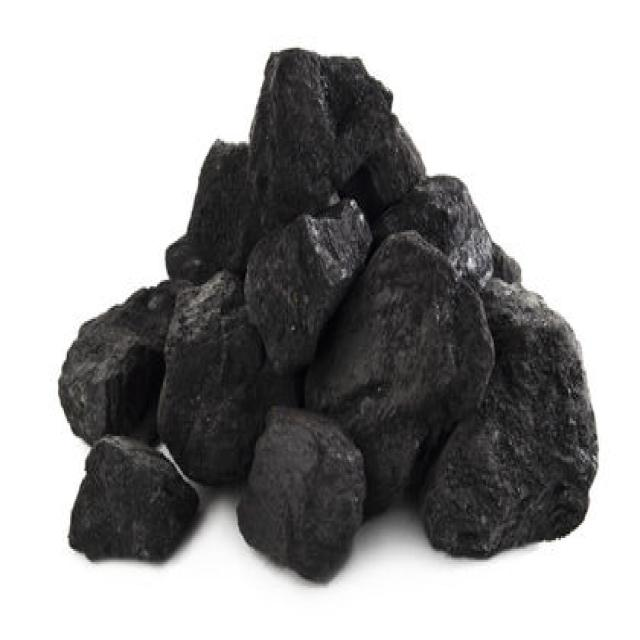Sedimentary: (55, 46, 612, 577)
